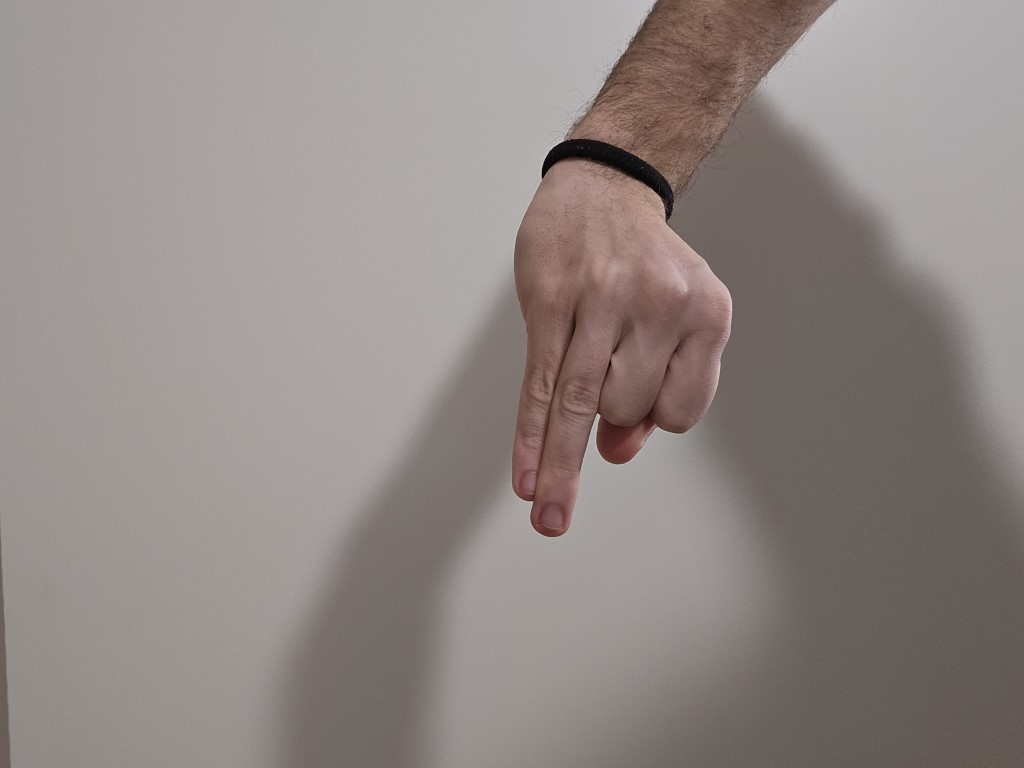n: (484, 167, 738, 564)
